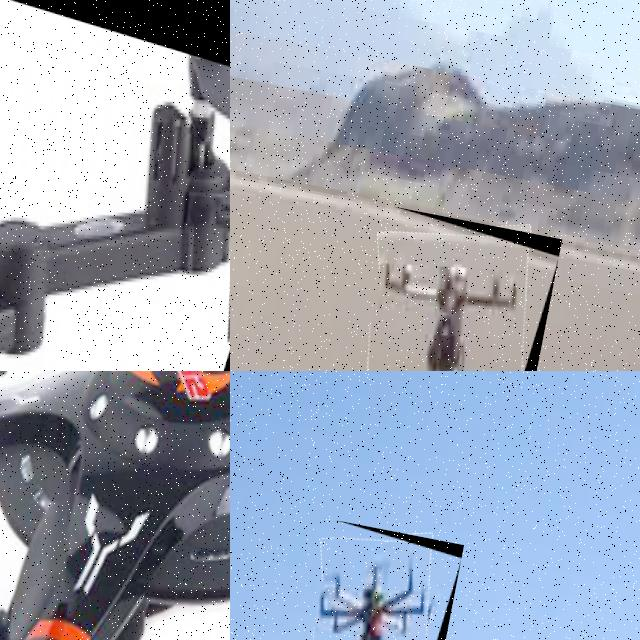0: (354, 206, 562, 371), (299, 520, 464, 640)
drone: (0, 0, 230, 371), (0, 371, 230, 640)
